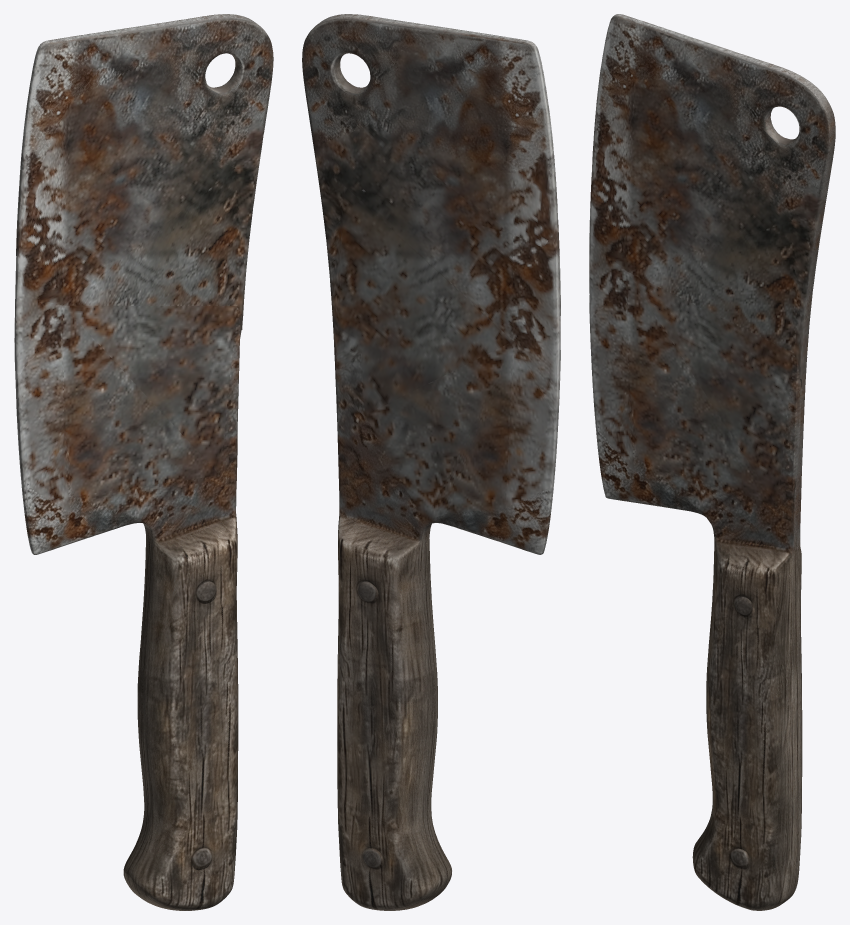
Rendered from ghoul_cleaver.glb.
The picture shows the model from 3 angles, left to right: view 1: azimuth 30°, elevation 25°; view 2: azimuth 150°, elevation 25°; view 3: azimuth 330°, elevation 25°; orthographic projection. The views are drawn at different scales.
Parts seen in each view (by area): view 1: Mesh_0; view 2: Mesh_0; view 3: Mesh_0.
Part boxes in pixels (x1,y1,x2,y2): Mesh_0: [14, 14, 273, 910]; Mesh_0: [302, 14, 560, 910]; Mesh_0: [589, 14, 835, 910].
Bounding box in the file's own units: 0.5658 × 1.9 × 0.1205.
1 material, 1 textured.
